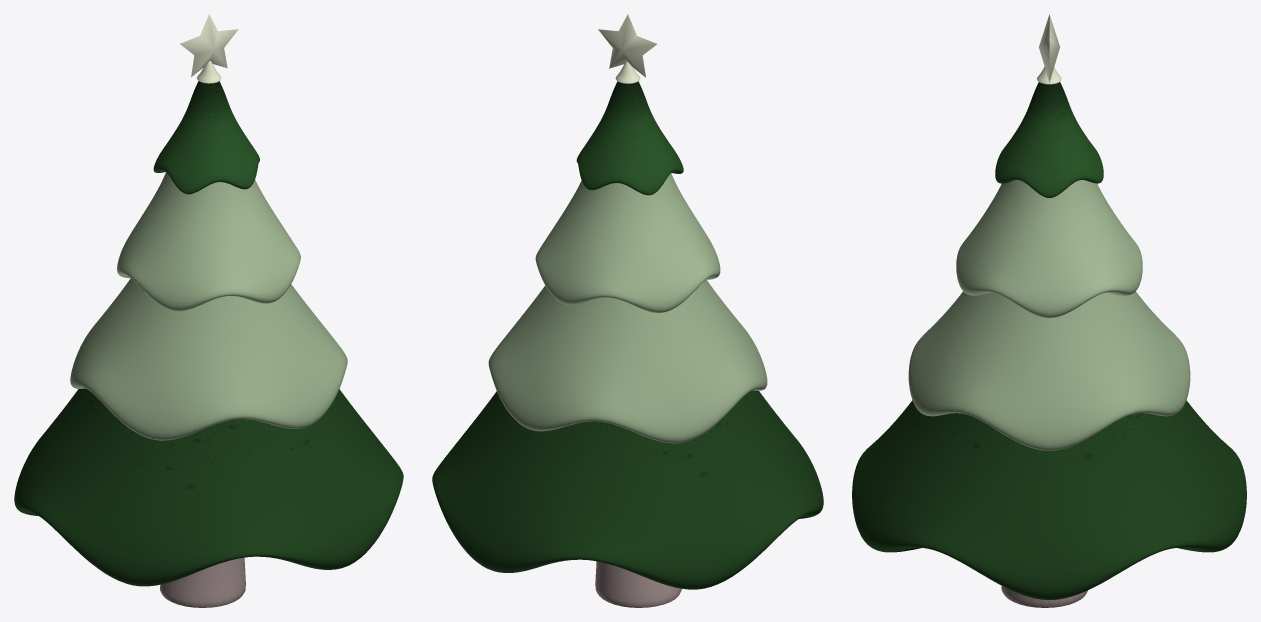
The model's file is tree_testing3.glb.
The picture shows the model from 3 angles, left to right: view 1: azimuth 30°, elevation 25°; view 2: azimuth 150°, elevation 25°; view 3: azimuth 270°, elevation 25°; orthographic projection.
Parts seen in each view (by area): view 1: Null.1, Cylinder.1, Extrude; view 2: Null.1, Cylinder.1, Extrude; view 3: Null.1, Extrude, Cylinder.1.
Part boxes in pixels (x1,y1,x2,y2): Null.1: (14,81,403,586); Cylinder.1: (160,557,245,607); Extrude: (180,14,238,77); Null.1: (432,81,823,589); Cylinder.1: (595,561,681,607); Extrude: (598,14,657,77); Null.1: (852,82,1246,599); Extrude: (1039,14,1059,82); Cylinder.1: (1001,586,1087,607).
Bounding box in the file's own units: 5.4 × 8.79 × 5.41.
6 materials, 2 textured.
